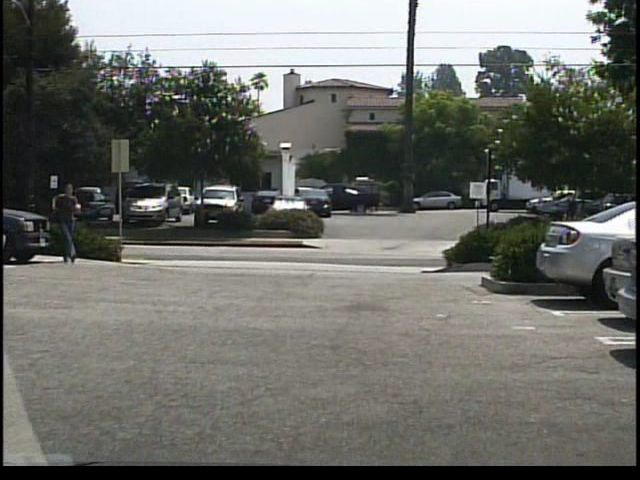person: (50, 179, 85, 265)
